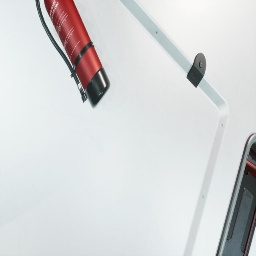FireExtinguisher ]: (35, 0, 110, 109)
